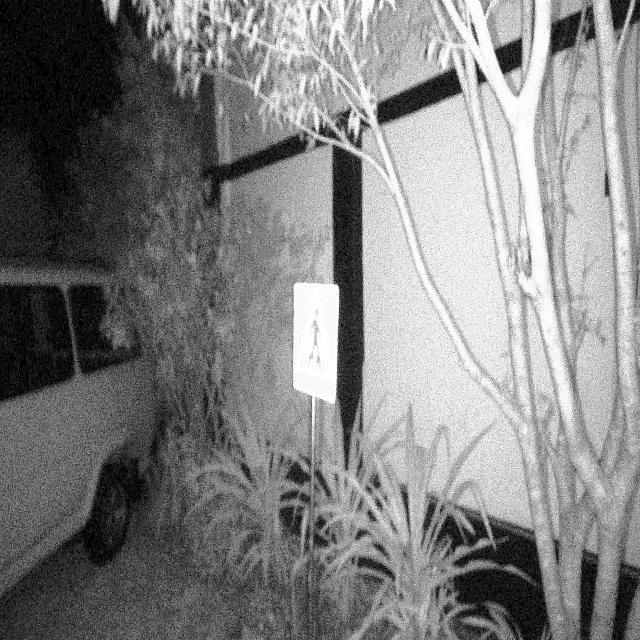Sign: (290, 278, 342, 406)
Tree: (415, 0, 639, 640)
